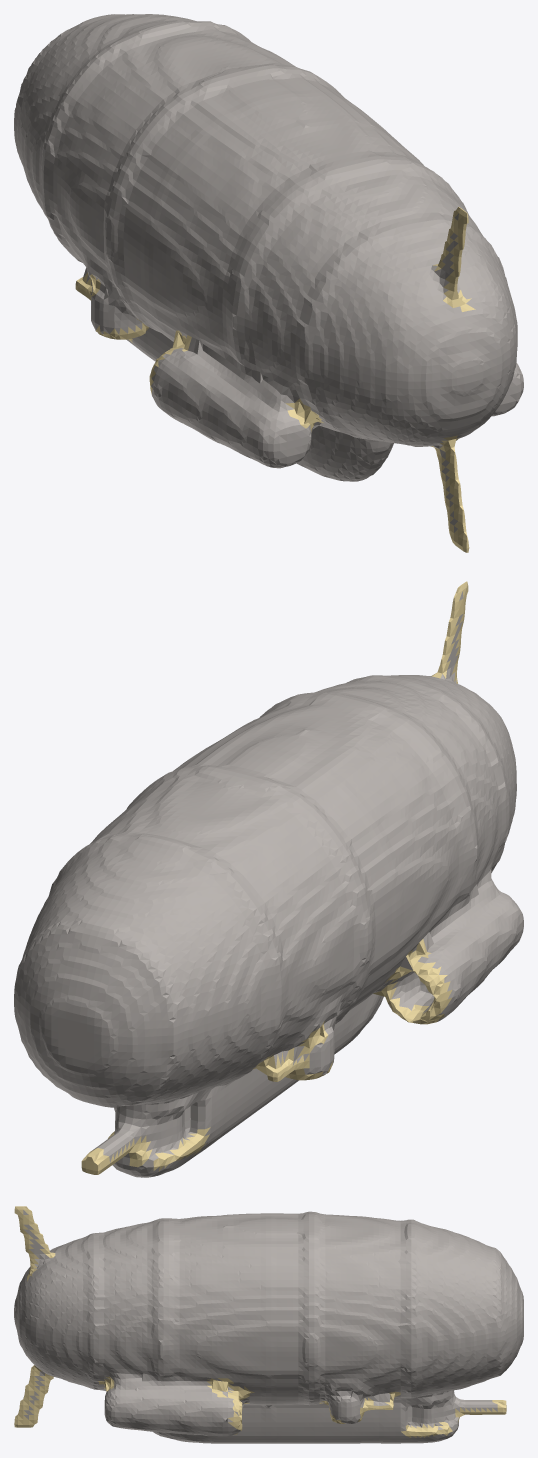
The model's file is unit_leviathan.glb.
3 views of the same model, one above another, from view 1: azimuth 30°, elevation 25°; view 2: azimuth 150°, elevation 25°; view 3: azimuth 270°, elevation 25° (orthographic). The views are drawn at different scales.
Parts seen in each view (by area): view 1: Mesh_0.047; view 2: Mesh_0.047; view 3: Mesh_0.047.
Boxes of the visible parts, x1,y1,x2,y2 form: Mesh_0.047: (14,14,523,552); Mesh_0.047: (14,581,523,1177); Mesh_0.047: (14,1206,523,1443).
Size of the model in its own units: 3.33 by 3.78 by 7.5.
